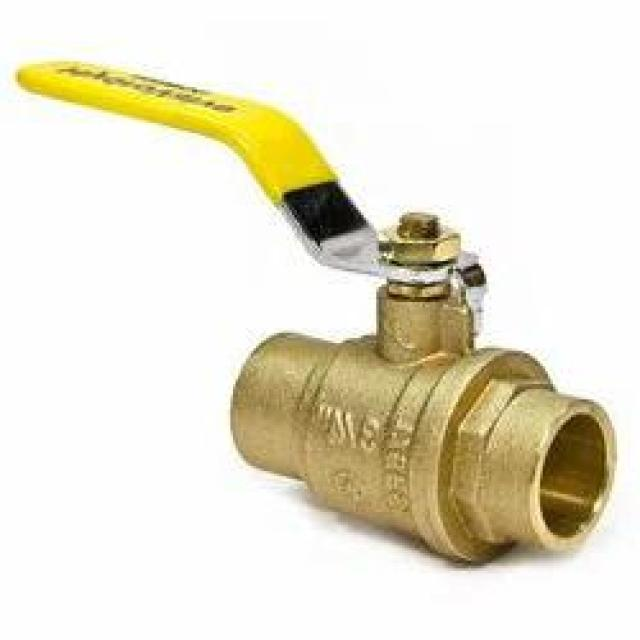opened_valve: (16, 51, 619, 570)
